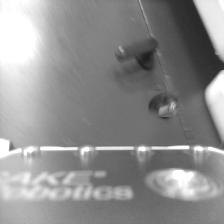Door Handle: (113, 34, 158, 70)
Lock: (149, 90, 178, 118)
